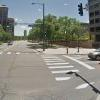Crosswalk: (31, 44, 89, 94)
